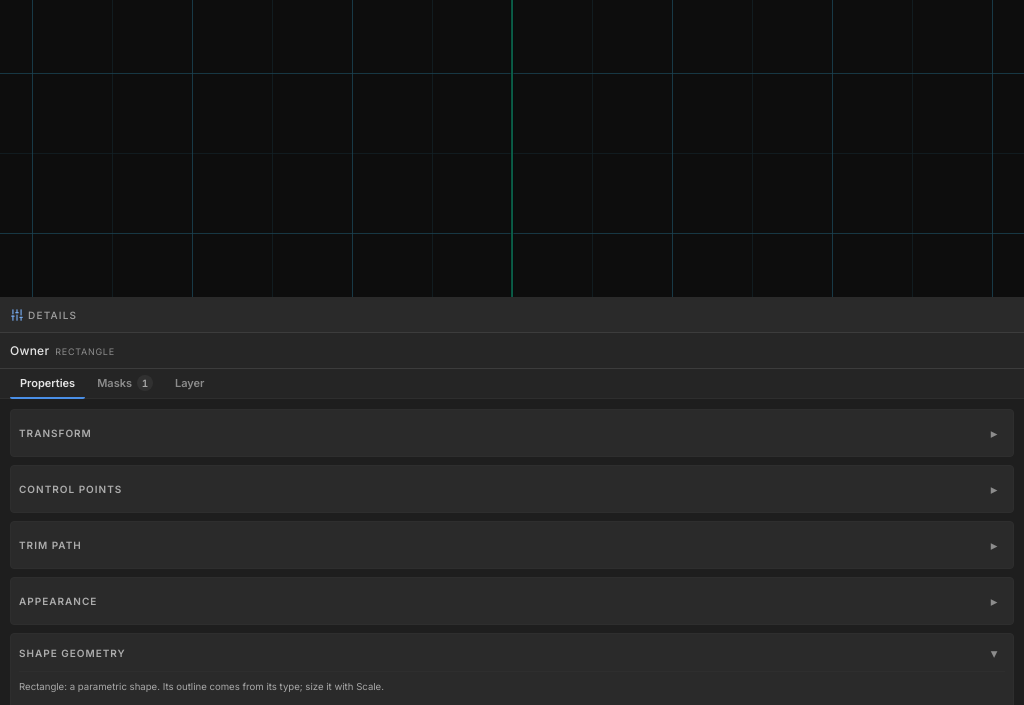
Test: WP-02 canvas mask editing mode › refuses a locked mask with a reason
The width and height of the screenshot is (1024, 705).
(page scrolled)
Press the mouse on the tab "Masks 1" at (125, 384), box [87,369,163,399]
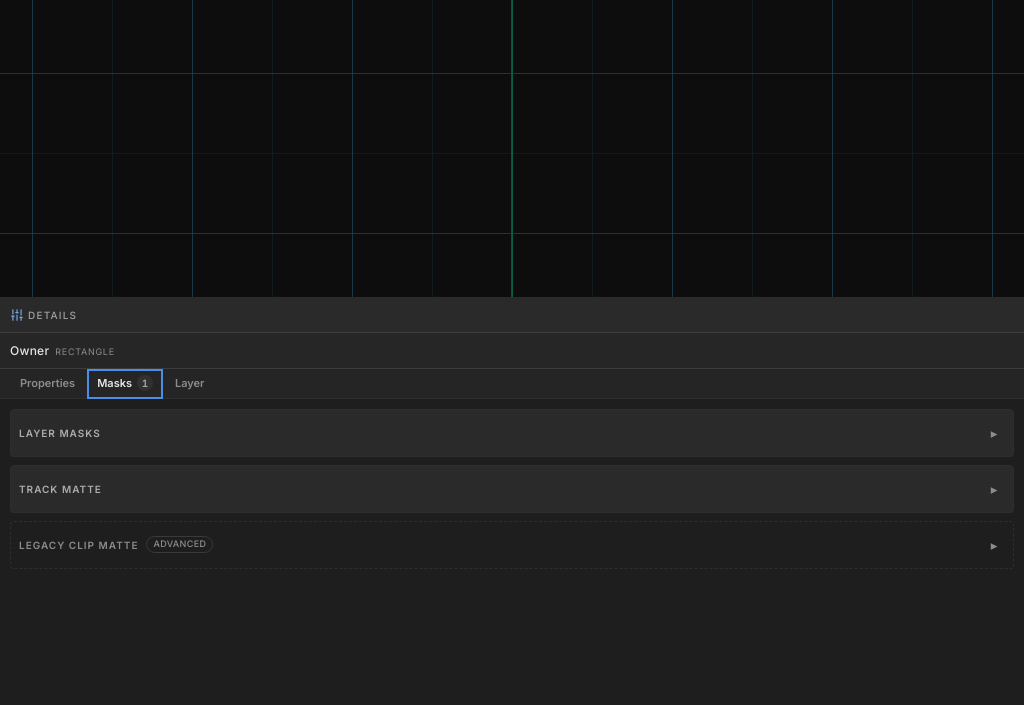
Click the button named "Expand LAYER MASKS". click: (994, 432)
box: [978,416,1010,448]
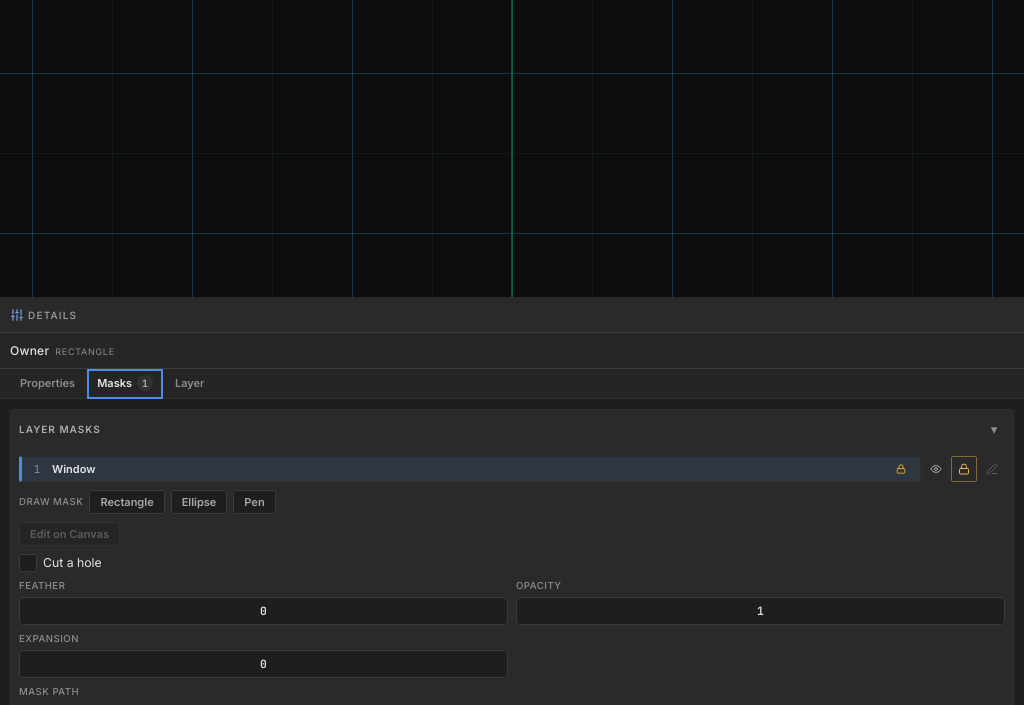
Expected: the button "Edit on Canvas" is disabled, [19,522,120,546]
